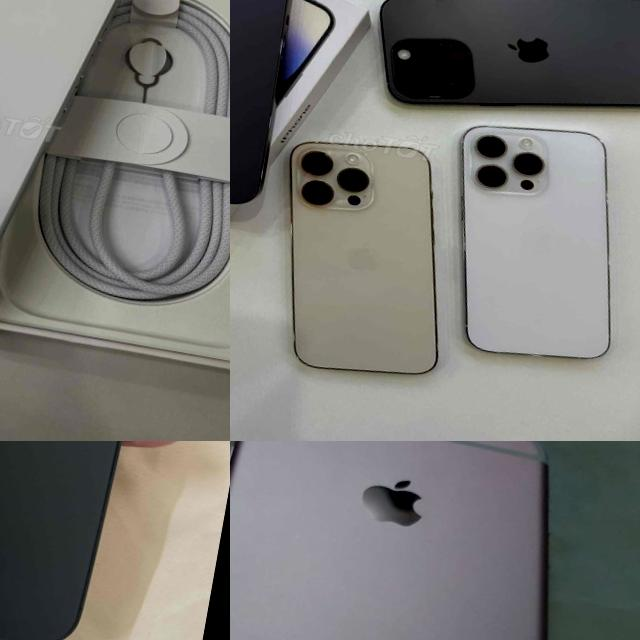gen_14: (426, 102, 640, 391), (256, 107, 470, 396), (0, 441, 191, 640), (230, 0, 307, 229)
gen_17: (0, 0, 138, 351)
gen_6: (230, 441, 640, 640)
